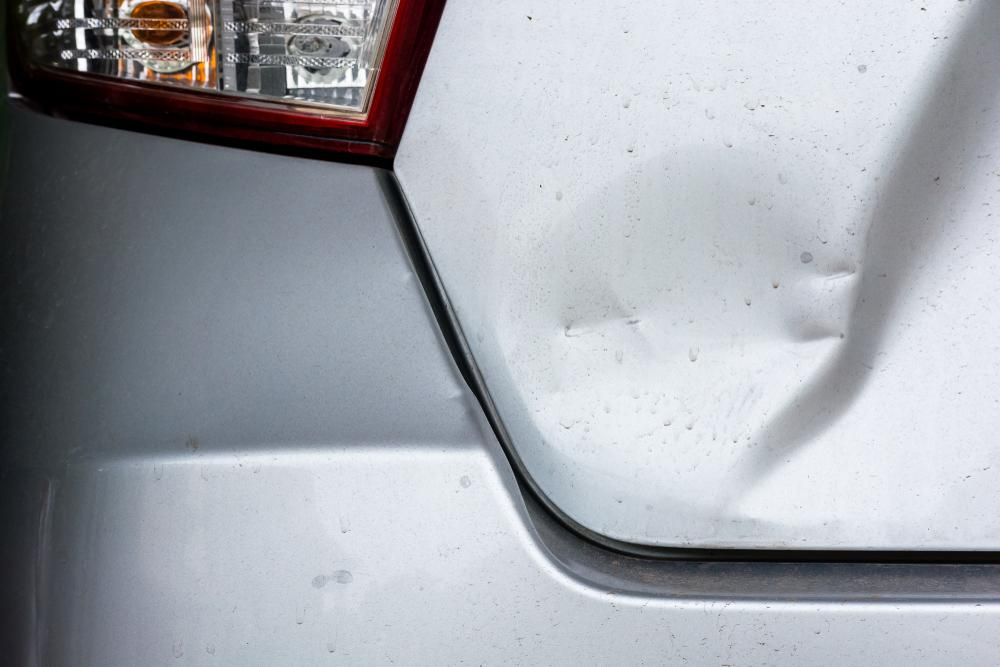dent: (728, 0, 1000, 527), (508, 147, 859, 496)
